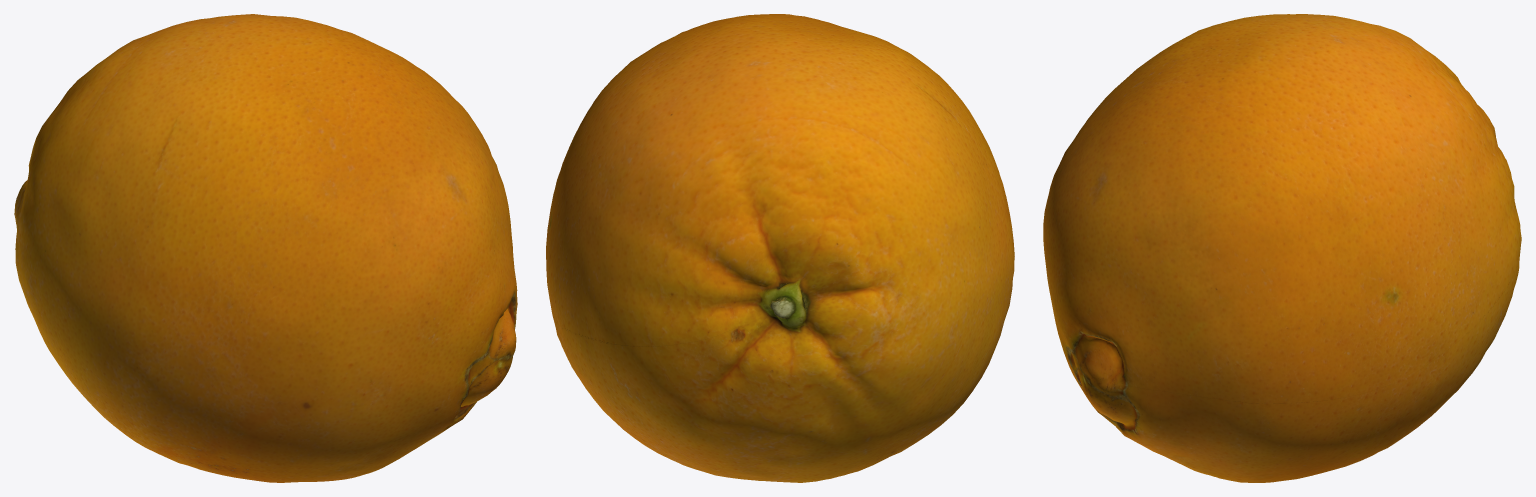
Rendered from orange.fbx.
3 views of the same model, side by side, from view 1: azimuth 30°, elevation 25°; view 2: azimuth 150°, elevation 25°; view 3: azimuth 270°, elevation 25° (orthographic). The views are drawn at different scales.
Visible parts, largest first — view 1: Orange.001; view 2: Orange.001; view 3: Orange.001.
Boxes of the visible parts, x1=… form: Orange.001: x1=14, y1=14, x2=517, y2=482; Orange.001: x1=546, y1=14, x2=1014, y2=482; Orange.001: x1=1043, y1=14, x2=1521, y2=482.
Size of the model in its own units: 9.45 by 9.18 by 9.64.
